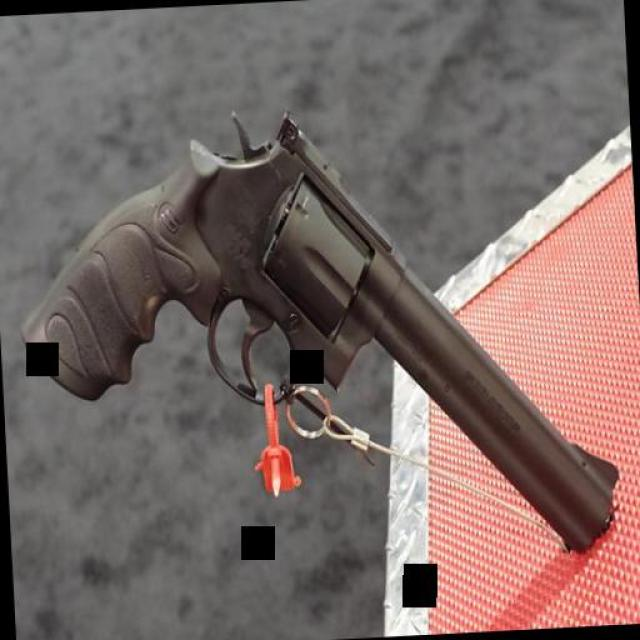gun: (9, 86, 612, 590)
